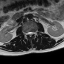CCS_normal: (29, 30, 31, 38)
LFS_normal: (33, 30, 35, 36)
LLS_normal: (31, 30, 33, 36)
RFS_normal: (25, 30, 27, 36)
RLS_normal: (27, 30, 29, 36)
